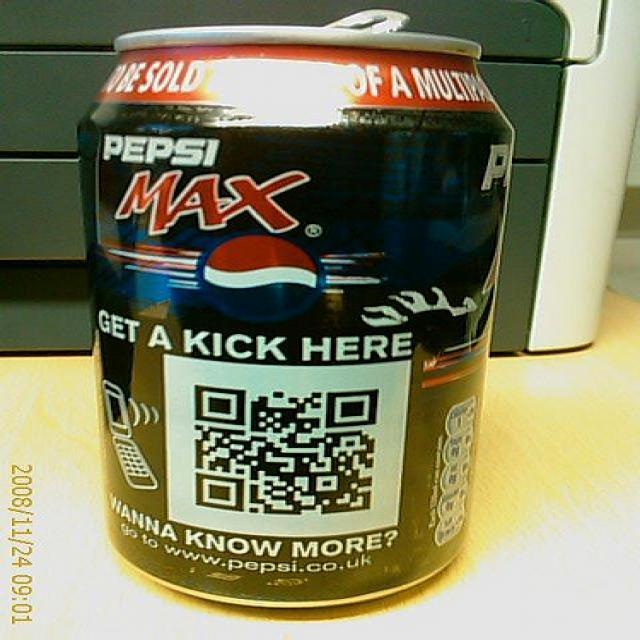qr_code: (194, 386, 379, 514)
